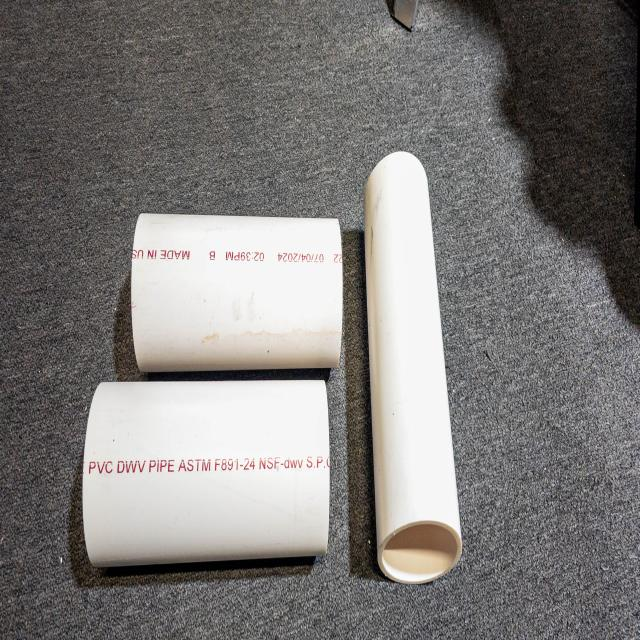Coral: (82, 380, 332, 569), (364, 150, 462, 588), (132, 214, 343, 372)
